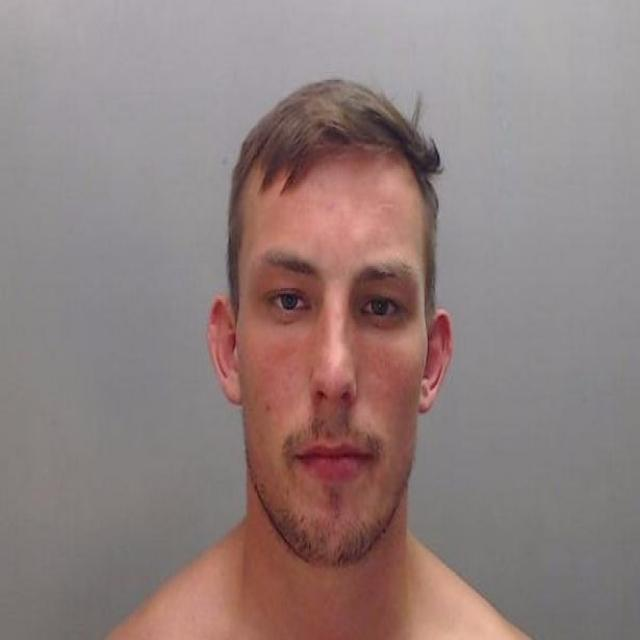human: (193, 96, 500, 638)
